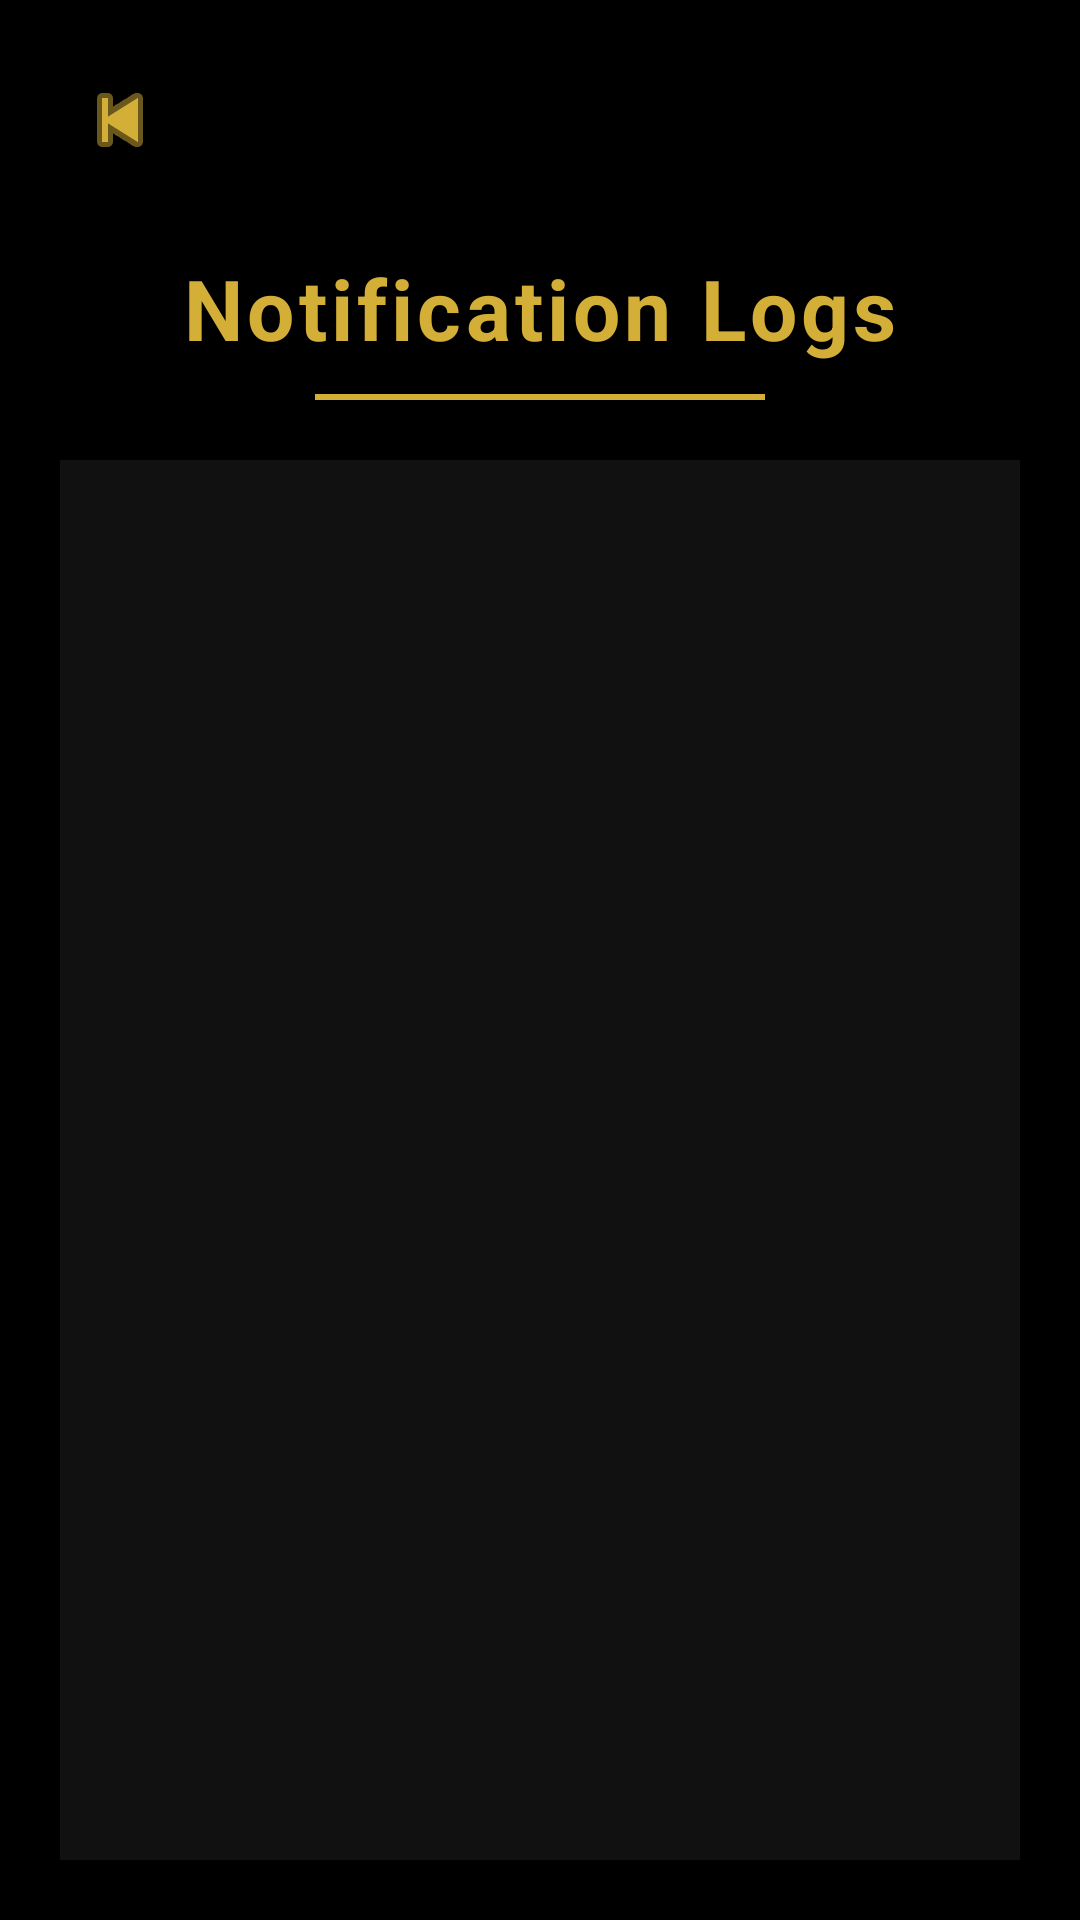

Icon click points for this 1080 x 1920 phone screenshot, format (x,y):
previous: (120,120)
